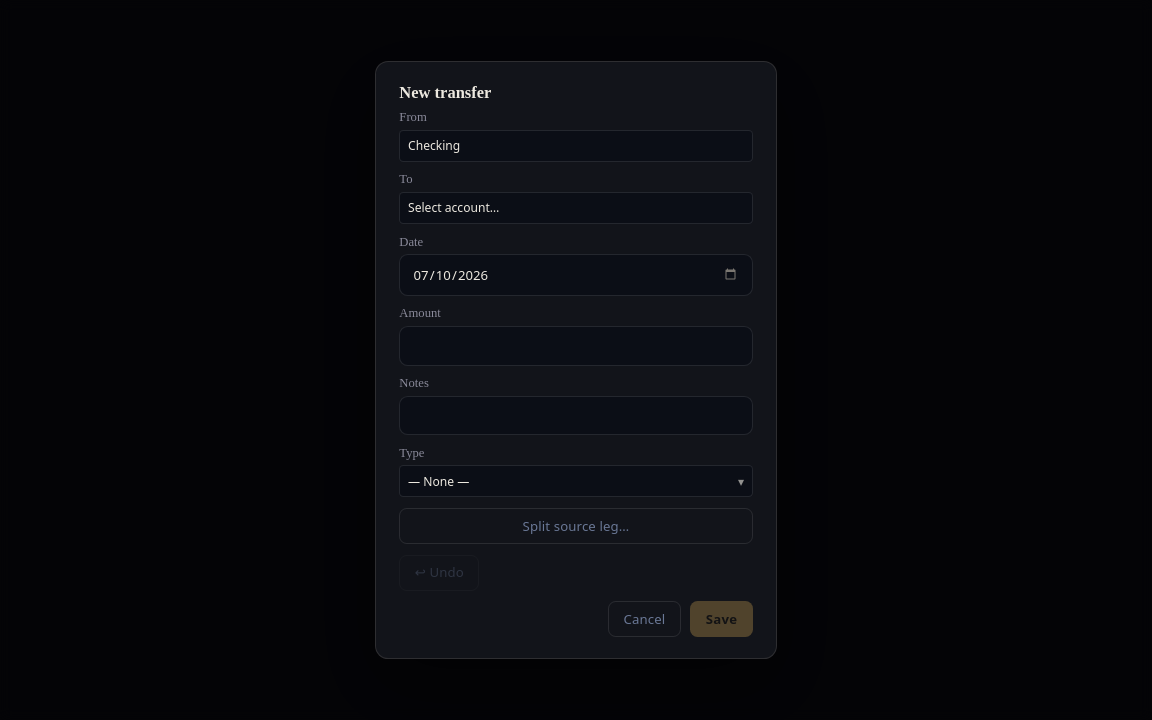
Test case: TransferEditor › new transfer: Save is disabled until From/To/amount are valid
Expected: the button "Save" is disabled, [690, 601, 753, 637]
Select "Savings" in the dropdown named "to account" at (576, 208), box [399, 192, 753, 224]
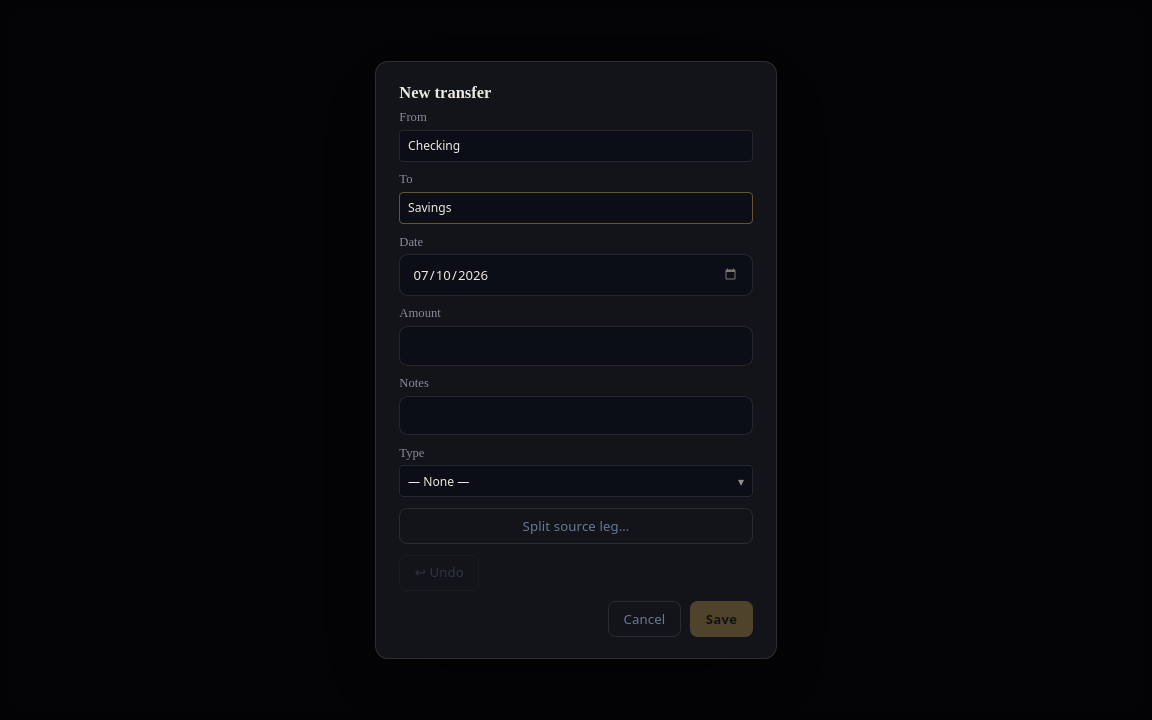
Type "500" into the number field labelled "Amount" at (576, 346), box [399, 326, 753, 366]
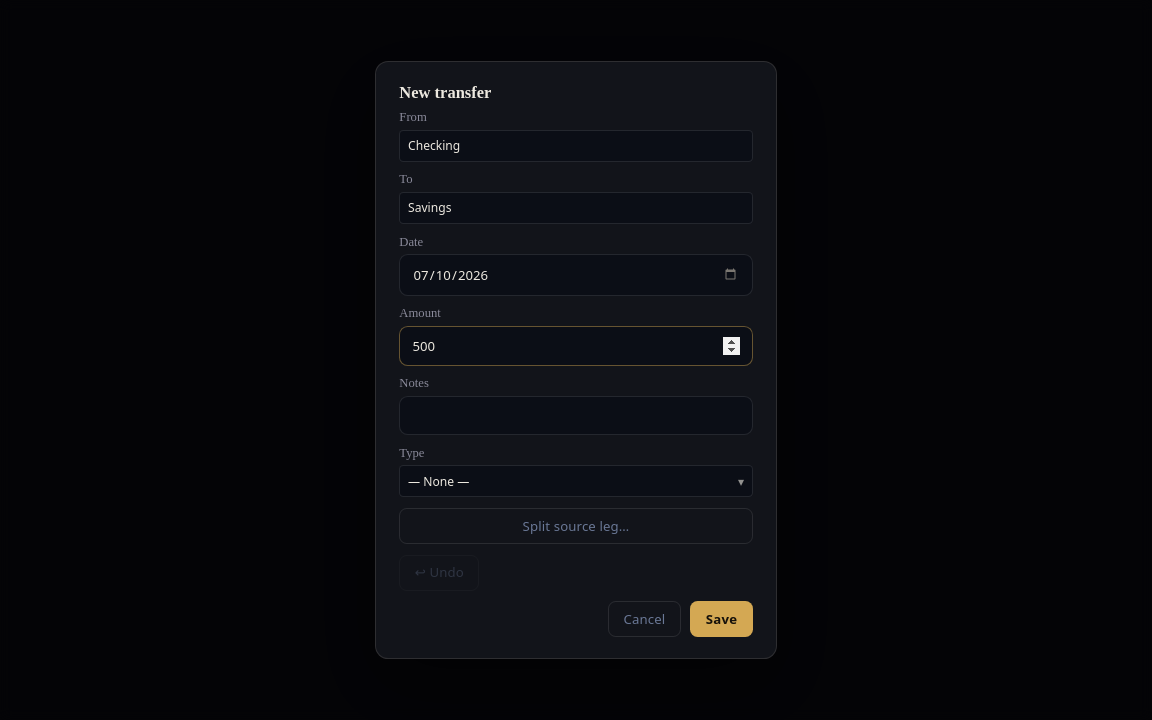
Result: the button "Save" is enabled at [690, 601, 753, 637]
